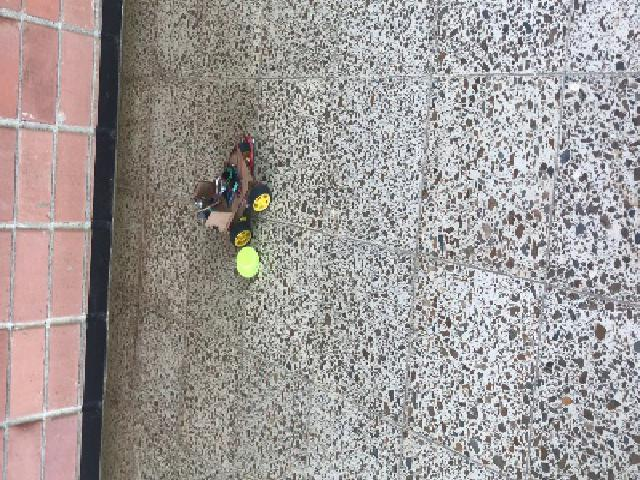Ball: (235, 247, 259, 277)
Robot: (194, 142, 272, 241)
